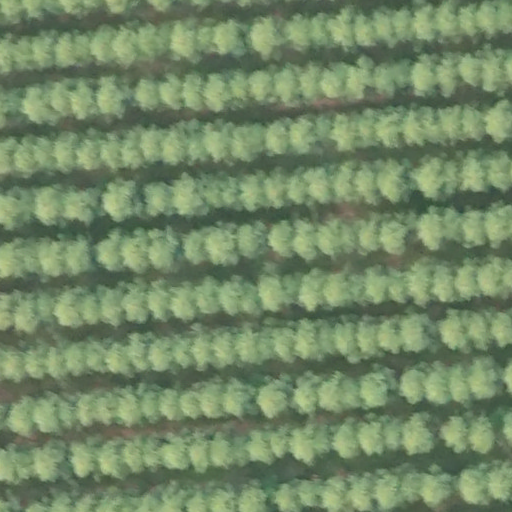eucalipto: (411, 154, 457, 199), (100, 178, 145, 223), (55, 287, 100, 329), (219, 274, 260, 319), (319, 371, 362, 413), (378, 158, 417, 204), (255, 376, 297, 418), (247, 16, 286, 60), (172, 173, 210, 218), (325, 5, 359, 55), (401, 411, 438, 456), (150, 228, 185, 274), (438, 310, 472, 357), (429, 259, 464, 304), (54, 31, 93, 71), (375, 58, 413, 99), (121, 230, 155, 275), (319, 217, 357, 257), (457, 463, 491, 507), (7, 395, 40, 440), (326, 271, 367, 307), (232, 121, 268, 162), (329, 110, 361, 156), (205, 226, 240, 268), (31, 184, 65, 227), (297, 269, 331, 312), (97, 78, 132, 119), (432, 50, 462, 97), (330, 418, 363, 460), (334, 318, 364, 364), (240, 170, 272, 213), (95, 232, 128, 273), (71, 437, 102, 480), (214, 19, 248, 58), (98, 283, 128, 327), (207, 429, 239, 470), (64, 232, 95, 274), (140, 26, 175, 63), (35, 442, 69, 480), (99, 435, 129, 478), (238, 221, 271, 260), (168, 281, 199, 322), (381, 215, 411, 257), (285, 12, 315, 54), (404, 310, 434, 352), (303, 167, 336, 205), (485, 98, 512, 144), (468, 359, 499, 399), (53, 129, 81, 173), (376, 106, 405, 148), (273, 66, 304, 105), (467, 412, 495, 455), (460, 206, 488, 249), (142, 181, 175, 217), (268, 220, 299, 258), (161, 433, 192, 471), (169, 19, 200, 57), (124, 282, 152, 324), (460, 102, 488, 144), (459, 153, 489, 192), (180, 71, 208, 112), (258, 274, 288, 312), (138, 384, 165, 426), (451, 363, 479, 403), (441, 417, 471, 454), (426, 360, 453, 401), (1, 345, 30, 383), (420, 471, 450, 507), (36, 394, 63, 433), (14, 294, 41, 333), (33, 29, 60, 68), (224, 380, 253, 416), (267, 117, 293, 157), (211, 328, 238, 366), (321, 62, 348, 100), (123, 433, 148, 474), (114, 25, 140, 64), (135, 76, 163, 112), (197, 382, 225, 418), (24, 344, 52, 380), (39, 240, 67, 276), (489, 150, 512, 193), (400, 367, 426, 405), (264, 168, 289, 207), (323, 476, 350, 512), (238, 483, 271, 512), (404, 108, 431, 143), (149, 335, 175, 371), (414, 4, 438, 42), (376, 473, 401, 509), (250, 68, 278, 100), (300, 66, 328, 98), (295, 320, 319, 357), (292, 429, 318, 463), (248, 429, 274, 463), (379, 317, 404, 352), (116, 388, 141, 423), (162, 125, 185, 163), (76, 391, 99, 428), (129, 332, 152, 369), (15, 34, 40, 68), (277, 482, 305, 512), (489, 309, 512, 345), (107, 340, 132, 373), (142, 126, 164, 162), (392, 7, 414, 41), (386, 270, 410, 301), (46, 345, 67, 380), (87, 340, 112, 368), (212, 484, 237, 512)
